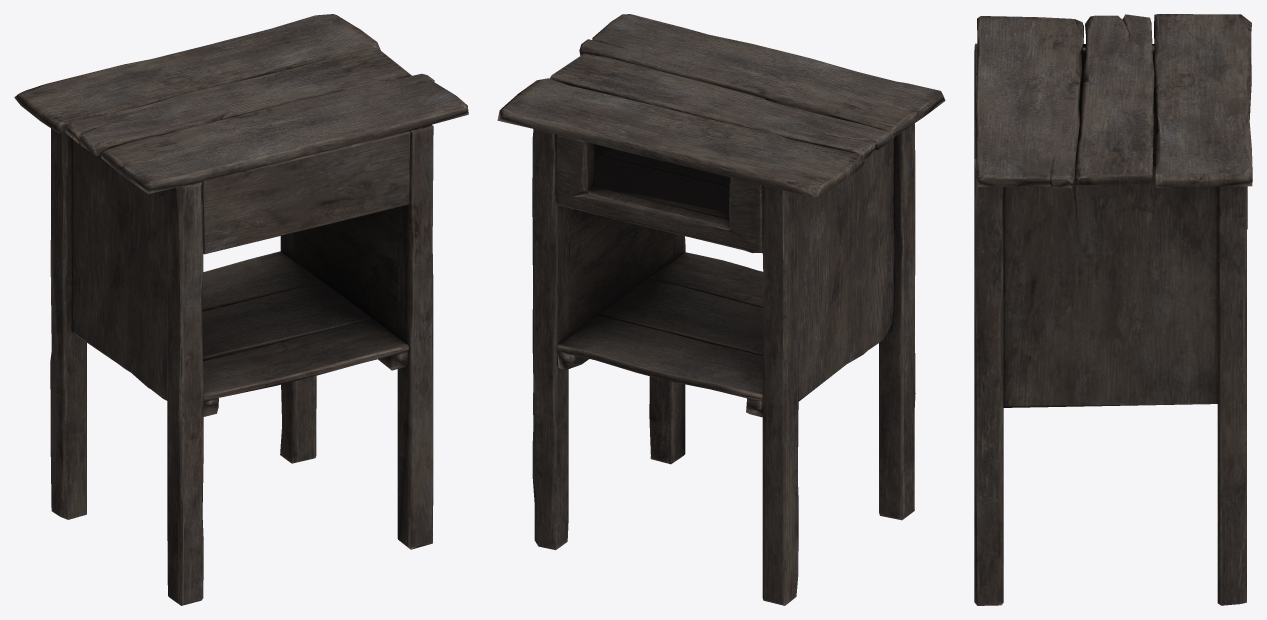
Rendered from SM_Cabinet.fbx.
The picture shows the model from 3 angles, left to right: view 1: azimuth 30°, elevation 25°; view 2: azimuth 150°, elevation 25°; view 3: azimuth 270°, elevation 25°; orthographic projection. The views are drawn at different scales.
Parts seen in each view (by area): view 1: SM_Cabinet_LOD0; view 2: SM_Cabinet_LOD0; view 3: SM_Cabinet_LOD0.
Part boxes in pixels (left/top/right/bottom): SM_Cabinet_LOD0: left=14, top=14, right=468, bottom=605; SM_Cabinet_LOD0: left=497, top=14, right=945, bottom=605; SM_Cabinet_LOD0: left=974, top=14, right=1252, bottom=605.
Bounding box in the file's own units: 49.16 × 34.65 × 61.58.
